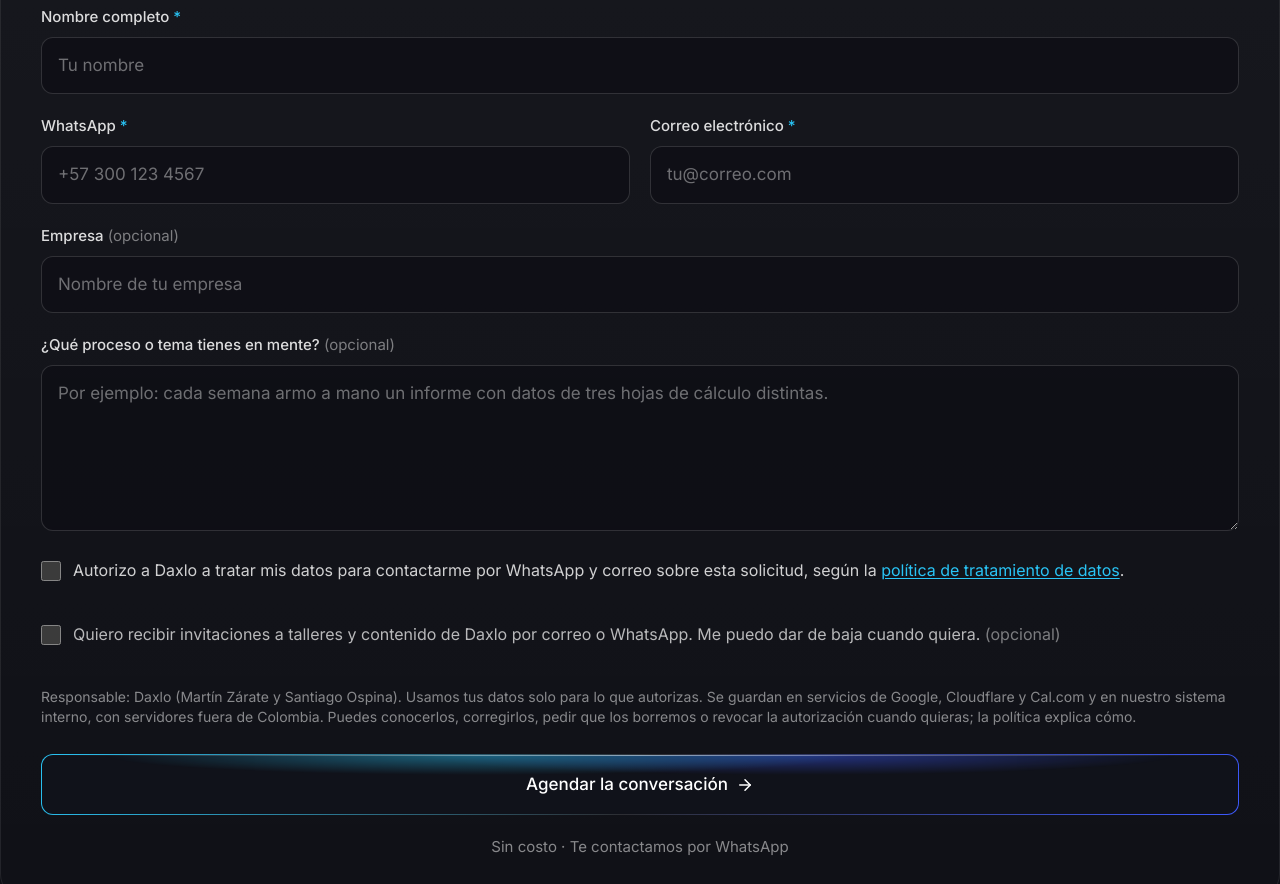
formulario: validación en el navegador › vacío: muestra los cuatro errores, marca los campos y lleva el foco a '¿Qué te interesa?'
The image size is (1280, 884).
(page scrolled)
Click the button "Agendar la conversación": coordinates (640, 785) [41, 754, 1239, 815]
(page scrolled)
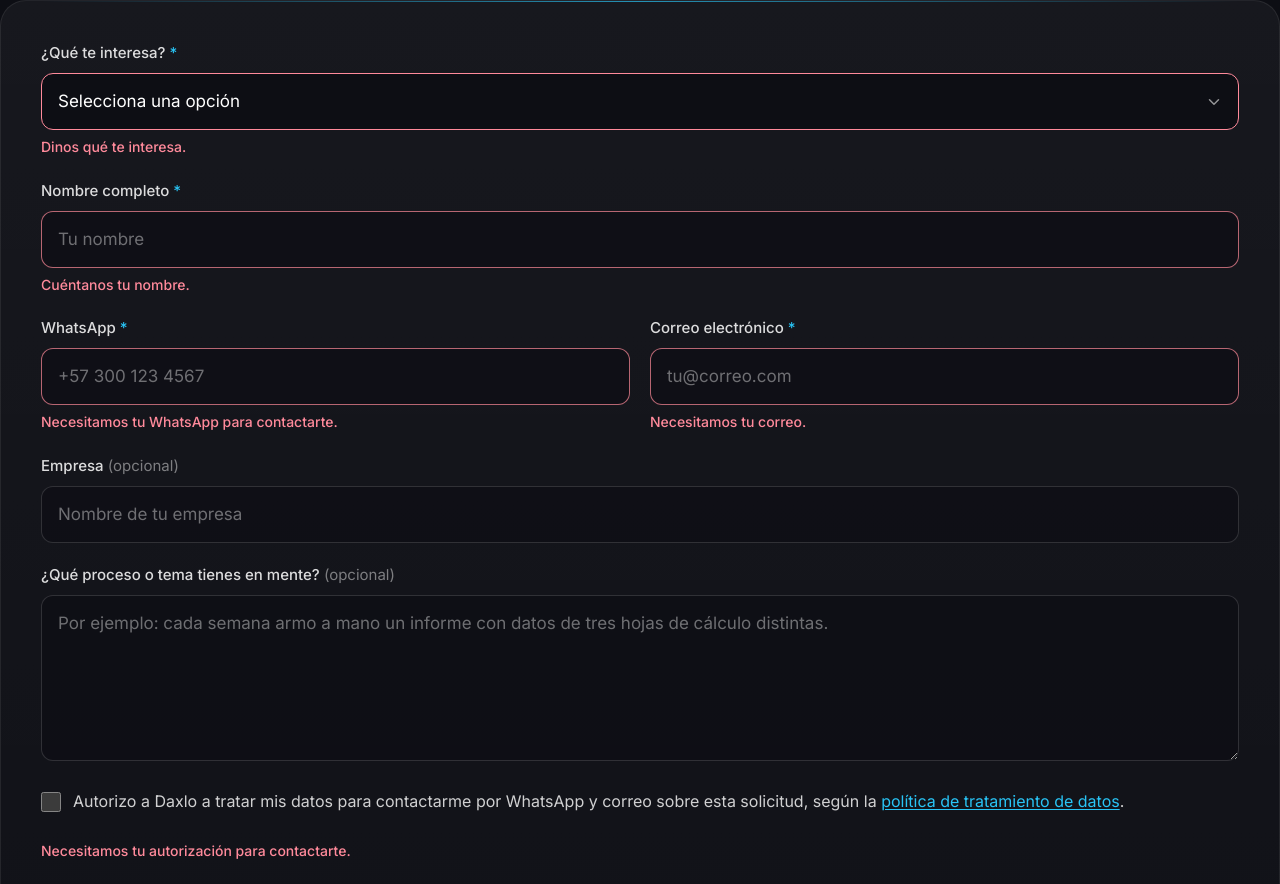
Result: the text with id "error-linea" reads "Dinos qué te interesa." at [41, 138, 186, 155]
Result: the text with id "error-nombre" reads "Cuéntanos tu nombre." at [41, 276, 190, 293]
Result: the text with id "error-whatsapp" reads "Necesitamos tu WhatsApp para contactarte." at [41, 413, 338, 430]
